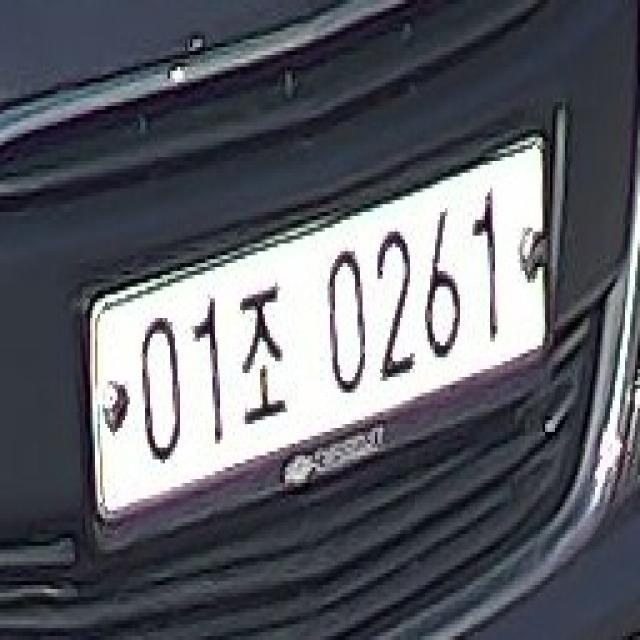0: (140, 300, 185, 477), (327, 233, 367, 408)
1: (470, 174, 510, 353), (192, 286, 232, 457)
2: (376, 209, 422, 385)
6: (424, 194, 464, 368)
jo: (236, 265, 292, 438)
license_plate: (83, 124, 566, 562)
